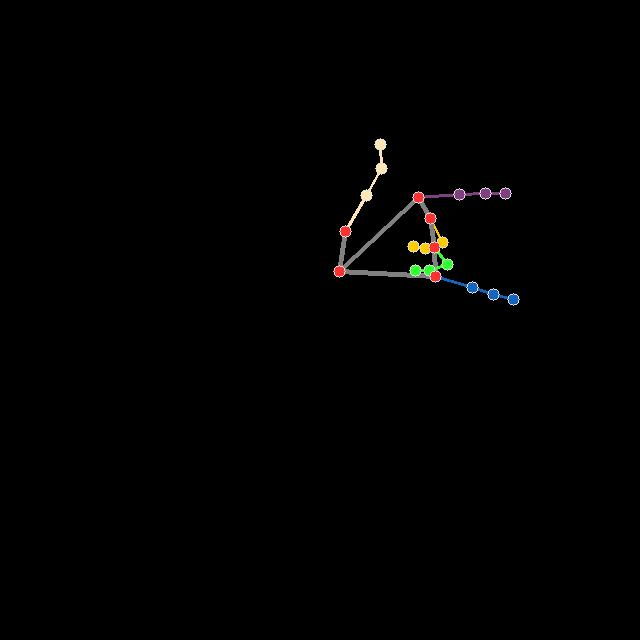spiderman: (334, 138, 519, 308)
